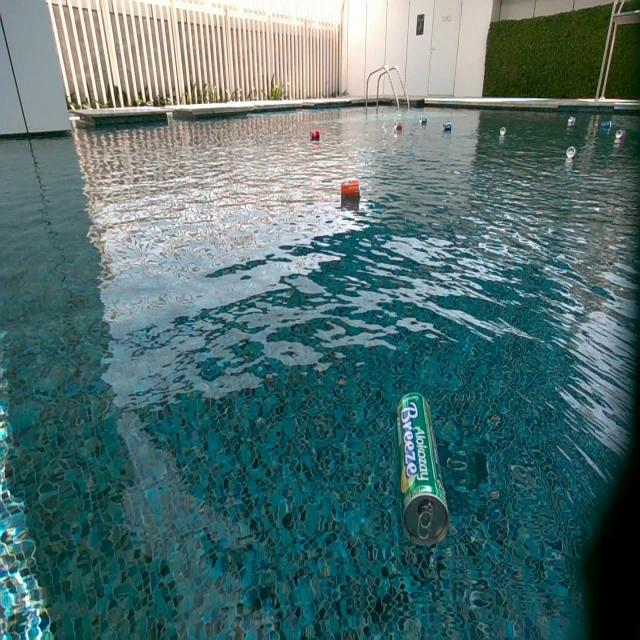Cans: (399, 392, 455, 548), (341, 179, 360, 197), (566, 145, 576, 158), (599, 120, 612, 130), (311, 130, 321, 142), (444, 122, 454, 132), (618, 131, 628, 141), (394, 121, 402, 131), (567, 115, 575, 125), (498, 128, 506, 138), (420, 116, 428, 125)
